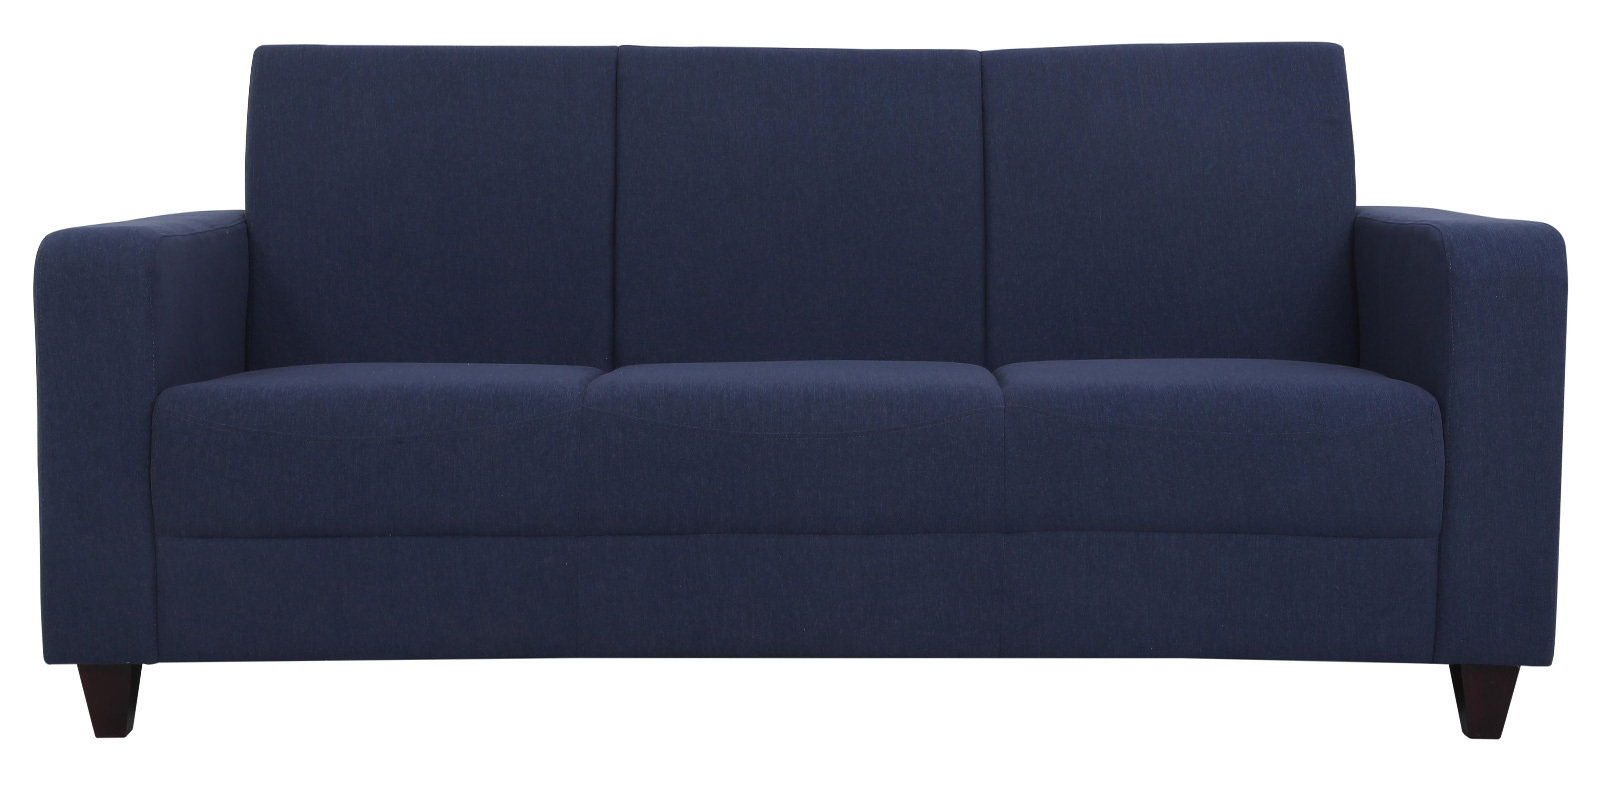Alba Three Seater Sofa in Navy Blue Colour by CasaCraft: (28, 30, 1572, 751)
